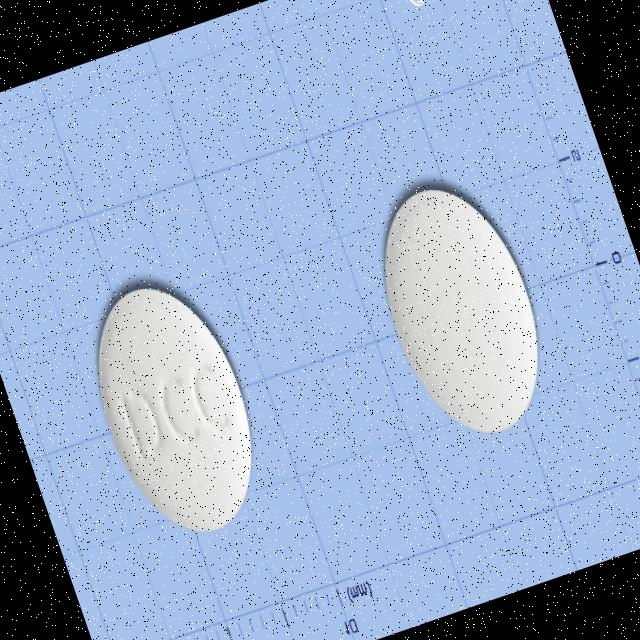Ciproxin -250mg: (351, 159, 575, 462), (65, 260, 288, 557)
